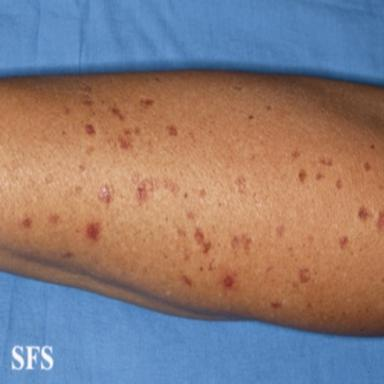Porokeratosis: (136, 178, 180, 204), (194, 227, 211, 253), (231, 234, 252, 252), (118, 129, 133, 149), (86, 223, 101, 240), (99, 184, 111, 203), (112, 107, 125, 121), (299, 268, 310, 283), (235, 178, 246, 193), (358, 206, 369, 220), (377, 211, 384, 232), (81, 95, 93, 107), (223, 275, 234, 288), (180, 275, 192, 286), (140, 99, 154, 108), (339, 236, 349, 248), (319, 158, 333, 166), (167, 125, 177, 136), (49, 214, 60, 224), (131, 172, 140, 184), (85, 125, 95, 135), (22, 217, 31, 228), (276, 226, 284, 238), (183, 248, 190, 261), (187, 211, 197, 220), (271, 302, 281, 309), (292, 150, 300, 158), (316, 173, 325, 180), (134, 127, 141, 136), (336, 179, 342, 189), (365, 162, 371, 171)
